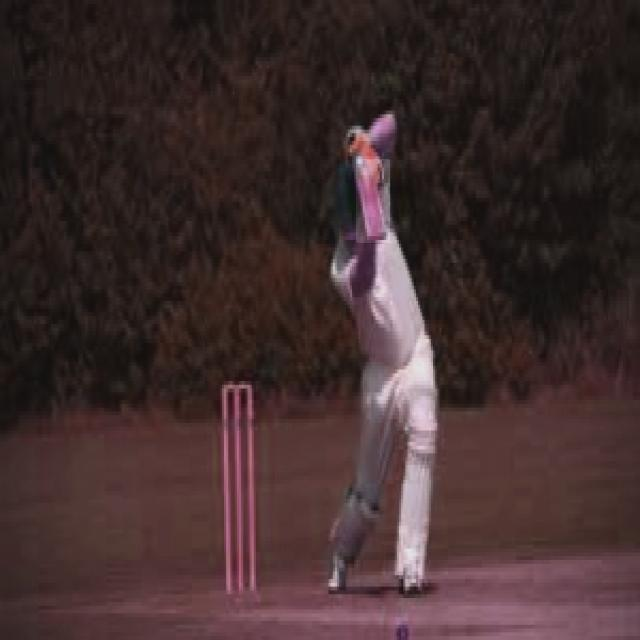bat: (347, 151, 393, 241)
toe: (362, 228, 388, 241)
